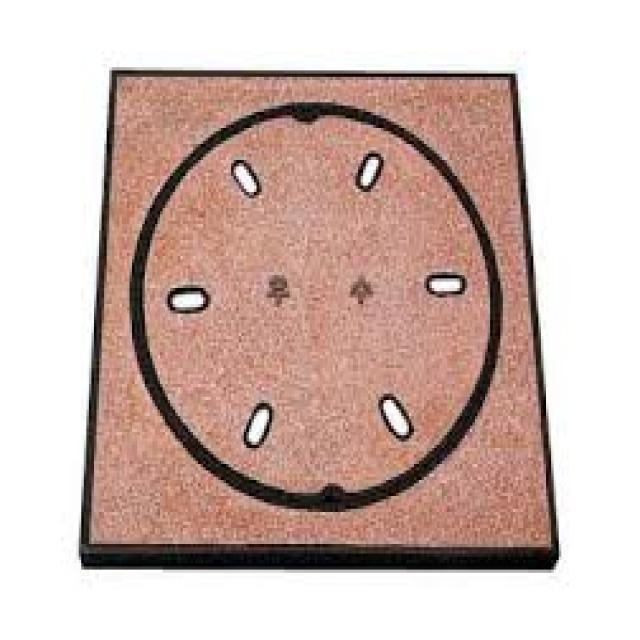Sewer Cover: (68, 40, 574, 619)
